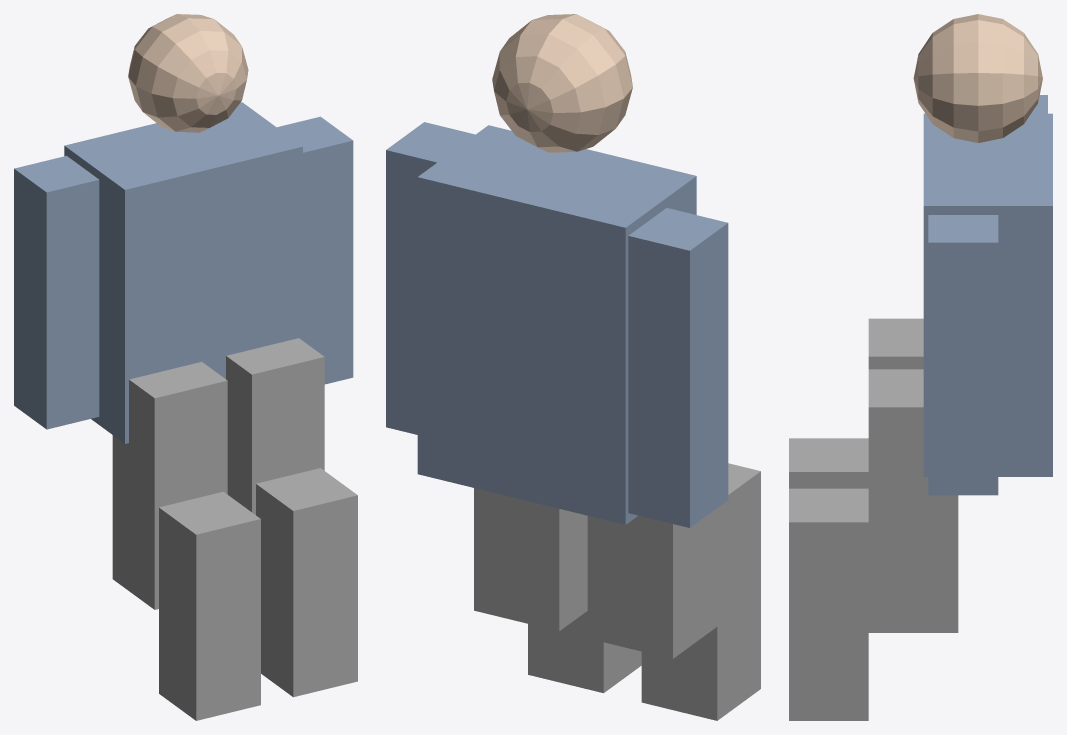
Rendered from driver_idle.glb.
3 views of the same model, side by side, from view 1: azimuth 30°, elevation 25°; view 2: azimuth 150°, elevation 25°; view 3: azimuth 270°, elevation 25° (orthographic). The views are drawn at different scales.
Parts seen in each view (by area): view 1: torso, arm_l, leg_l2, leg_r2, leg_l, leg_r, arm_r, head; view 2: torso, arm_l, leg_l, head, leg_l2, leg_r, arm_r, leg_r2; view 3: torso, arm_r, leg_r, leg_r2, head, leg_l2, leg_l.
Part boxes in pixels (x1,y1,x2,y2): torso: (64,102,302,443); arm_l: (14,156,99,429); leg_l2: (159,491,260,720); leg_r2: (256,468,357,697); leg_l: (112,362,227,609); leg_r: (226,338,324,514); arm_r: (277,116,353,384); head: (128,14,248,132); torso: (417,125,696,524); arm_l: (628,208,728,527); leg_l: (587,505,721,658); head: (492,14,632,152); leg_l2: (641,463,760,720); leg_r: (474,488,587,631); arm_r: (386,122,475,434); leg_r2: (528,611,641,693); torso: (923,113,1052,476); arm_r: (928,215,998,495); leg_r: (868,369,958,632); leg_r2: (789,488,868,720); head: (913,14,1042,142); leg_l2: (789,438,868,488); leg_l: (868,318,923,369).
Size of the model in its own units: 0.7001 by 1.46 by 0.5298.
